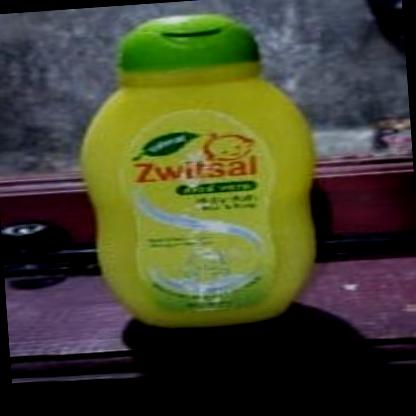objects: (77, 5, 324, 337)
